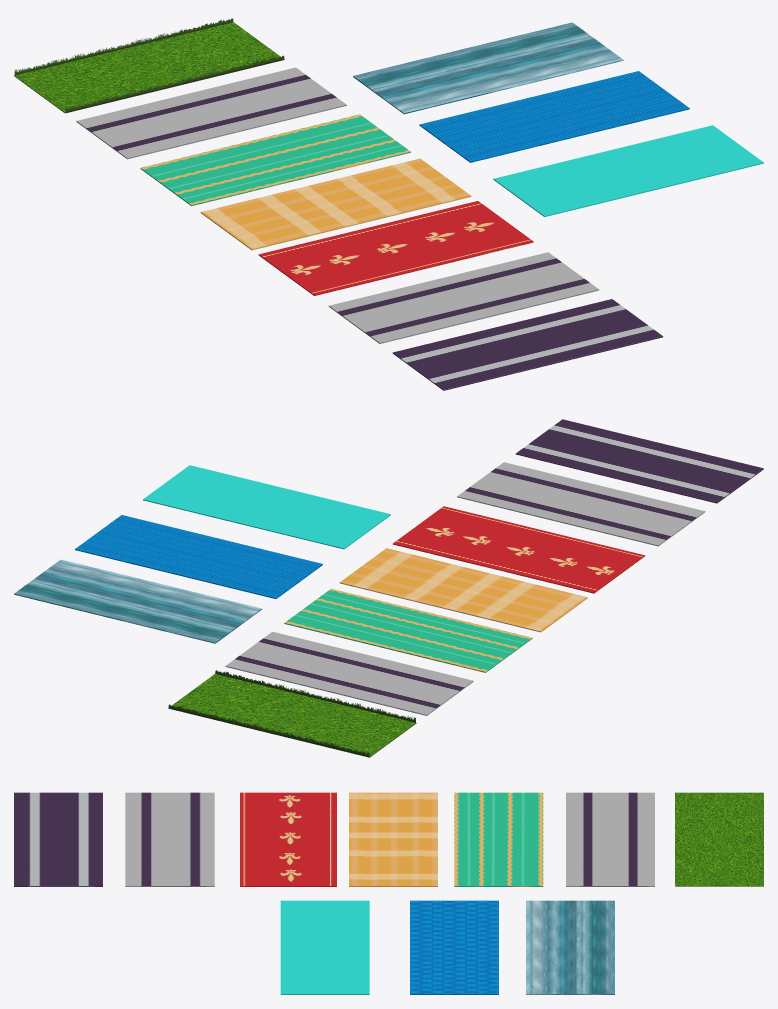
3 views of the same model, one above another, from view 1: azimuth 30°, elevation 25°; view 2: azimuth 150°, elevation 25°; view 3: azimuth 270°, elevation 25° (orthographic). The views are drawn at different scales.
Visible parts, largest first — view 1: Cube.004, Cube.003, Cube.006, Cube.008, Cube.010, Cube.002, Cube.005, Cube.007, Cube.001, Cube.009; view 2: Cube.004, Cube.003, Cube.009, Cube.006, Cube.007, Cube.002, Cube.008, Cube.001, Cube.005, Cube.010; view 3: Cube.004, Cube.005, Cube.001, Cube.010, Cube.003, Cube.002, Cube.006, Cube.007, Cube.008, Cube.009.
Boxes of the visible parts, bbox=[...] form: Cube.004: bbox=[258, 201, 533, 295]; Cube.003: bbox=[14, 18, 284, 113]; Cube.006: bbox=[392, 299, 663, 390]; Cube.008: bbox=[419, 71, 689, 162]; Cube.010: bbox=[493, 125, 763, 216]; Cube.002: bbox=[200, 158, 471, 250]; Cube.005: bbox=[328, 252, 599, 343]; Cube.007: bbox=[76, 67, 346, 159]; Cube.001: bbox=[140, 114, 410, 206]; Cube.009: bbox=[353, 22, 623, 114]; Cube.004: bbox=[392, 506, 645, 593]; Cube.003: bbox=[168, 670, 416, 757]; Cube.009: bbox=[14, 559, 262, 643]; Cube.006: bbox=[515, 419, 763, 503]; Cube.007: bbox=[225, 631, 473, 715]; Cube.002: bbox=[339, 548, 587, 632]; Cube.008: bbox=[75, 515, 322, 598]; Cube.001: bbox=[284, 588, 532, 672]; Cube.005: bbox=[457, 462, 705, 546]; Cube.010: bbox=[143, 465, 390, 549]; Cube.004: bbox=[240, 792, 336, 886]; Cube.005: bbox=[125, 792, 214, 886]; Cube.001: bbox=[454, 792, 543, 886]; Cube.010: bbox=[280, 900, 369, 994]; Cube.003: bbox=[675, 792, 763, 886]; Cube.002: bbox=[349, 792, 437, 886]; Cube.006: bbox=[14, 792, 102, 886]; Cube.007: bbox=[566, 792, 654, 886]; Cube.008: bbox=[410, 900, 498, 994]; Cube.009: bbox=[526, 900, 614, 994].
Bounding box in the file's own units: 431 × 7.73 × 678.
10 materials, 9 textured.
